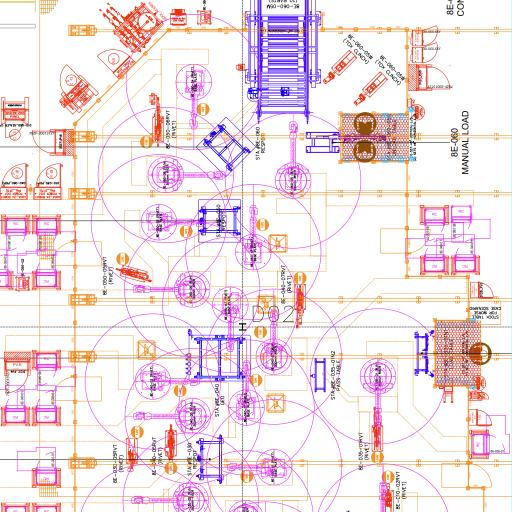robot: (275, 120, 316, 200), (131, 269, 211, 310), (143, 156, 228, 194), (359, 358, 397, 433), (139, 201, 209, 240), (225, 448, 292, 488), (255, 307, 293, 377), (174, 61, 212, 130), (133, 363, 202, 398), (236, 204, 271, 271)
